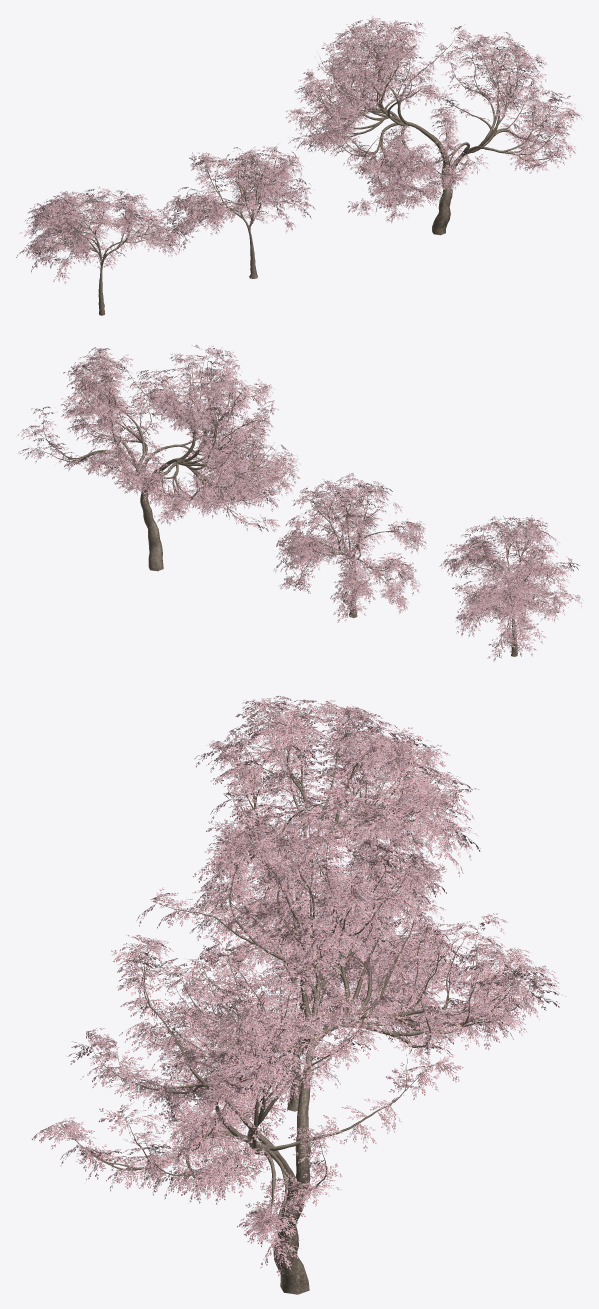
File: sakura.glb
The picture shows the model from 3 angles, top to bottom: view 1: azimuth 30°, elevation 25°; view 2: azimuth 150°, elevation 25°; view 3: azimuth 270°, elevation 25°; orthographic projection. The views are drawn at different scales.
Parts seen in each view (by area): view 1: big, small2, small; view 2: big, small, small2; view 3: big, small2, small.
Boxes of the visible parts, box(x1,y1,x2,y2) form: big: box(285, 15, 583, 235); small2: box(16, 186, 185, 315); small: box(161, 144, 315, 278); big: box(16, 344, 301, 571); small: box(273, 473, 426, 622); small2: box(439, 515, 583, 661); big: box(31, 799, 566, 1294); small2: box(192, 695, 480, 959); small: box(154, 841, 464, 1111).
Bounding box in the file's own units: 257 × 97.55 × 112.
2 materials, 2 textured.
